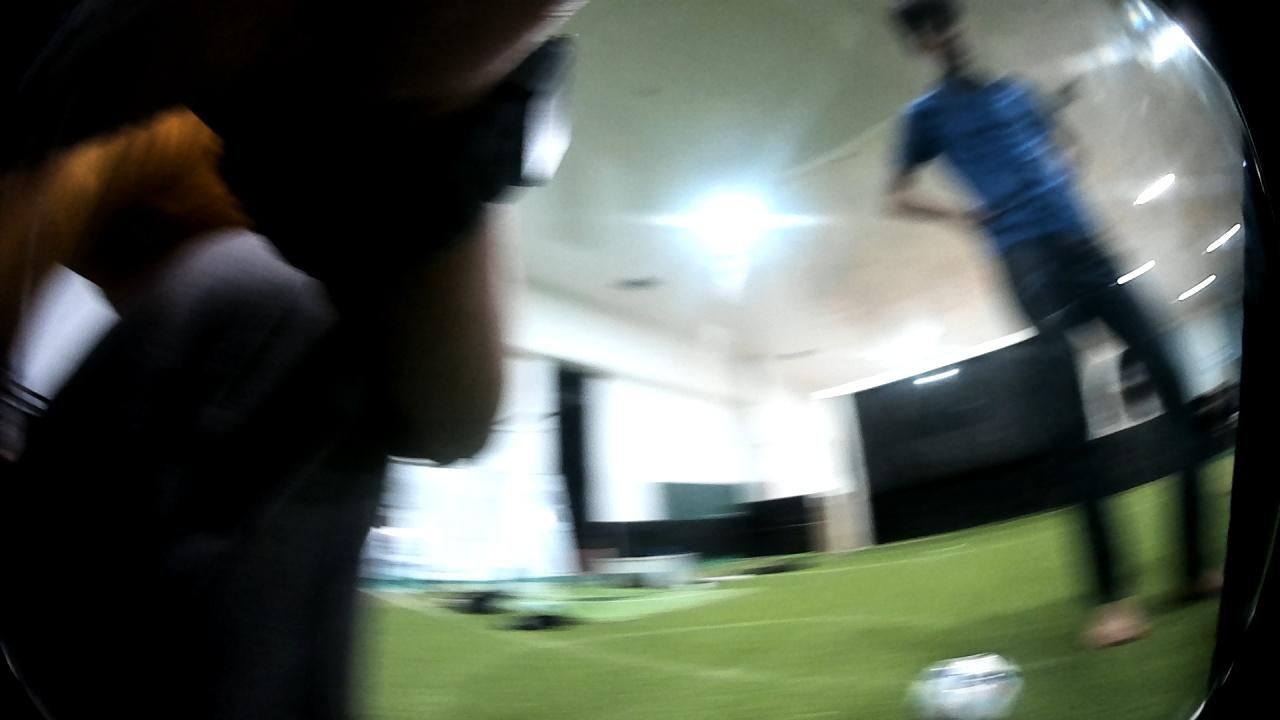ball: (903, 646, 1027, 720)
